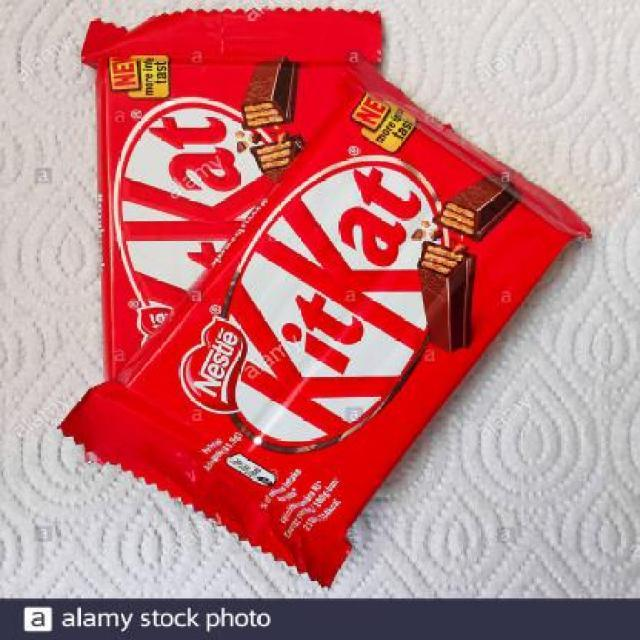Chocolate bar: (55, 70, 597, 590)
